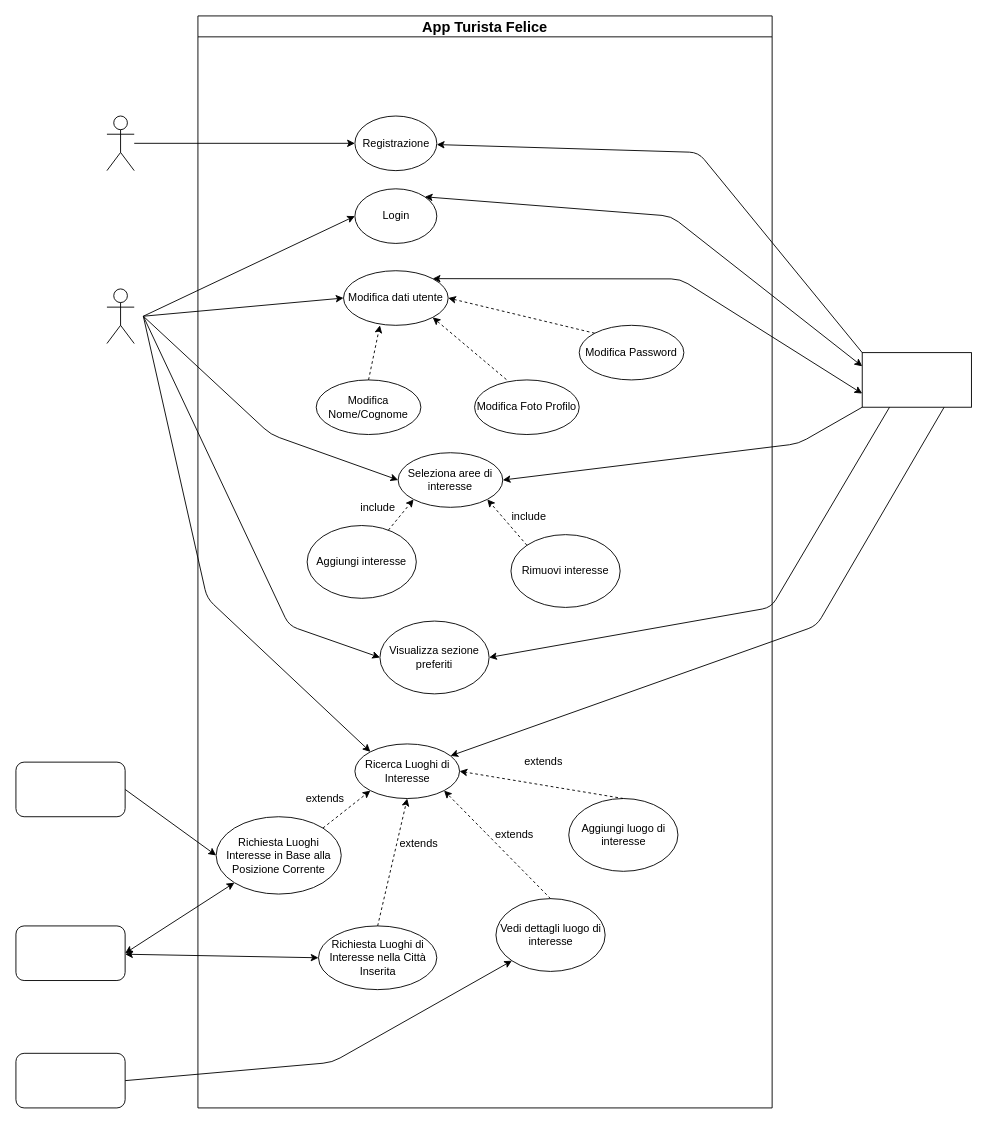
Image size: 987x1124. Some labels were removed from this diagram. Each missing label, with the centre of its shape:
API Google Maps: (x=70, y=953)
API Wikipedia: (x=70, y=1080)
GPS: (x=70, y=789)
Sistema: (x=916, y=379)
Utente: (x=120, y=316)
Utente non registrato: (x=120, y=143)
